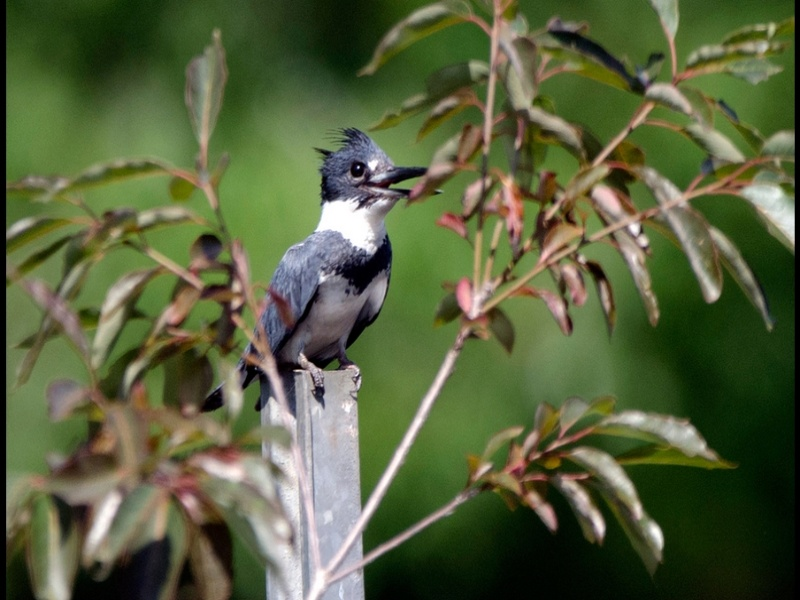kingfisher: (187, 124, 445, 420)
